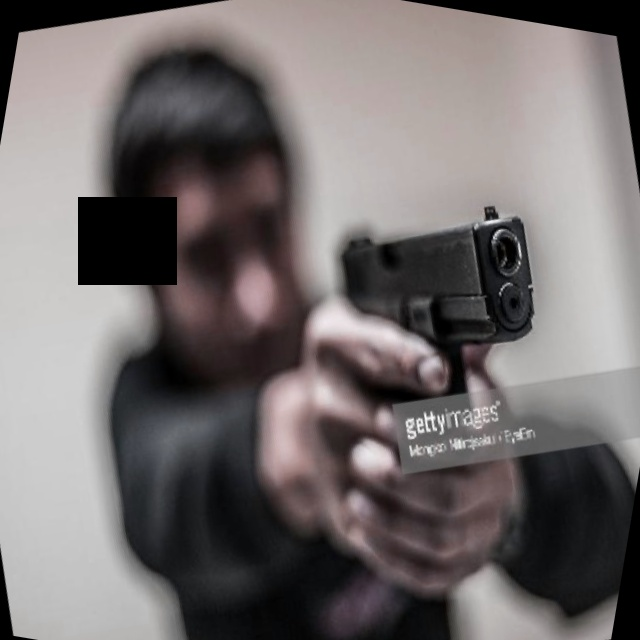gun: (286, 167, 601, 508)
